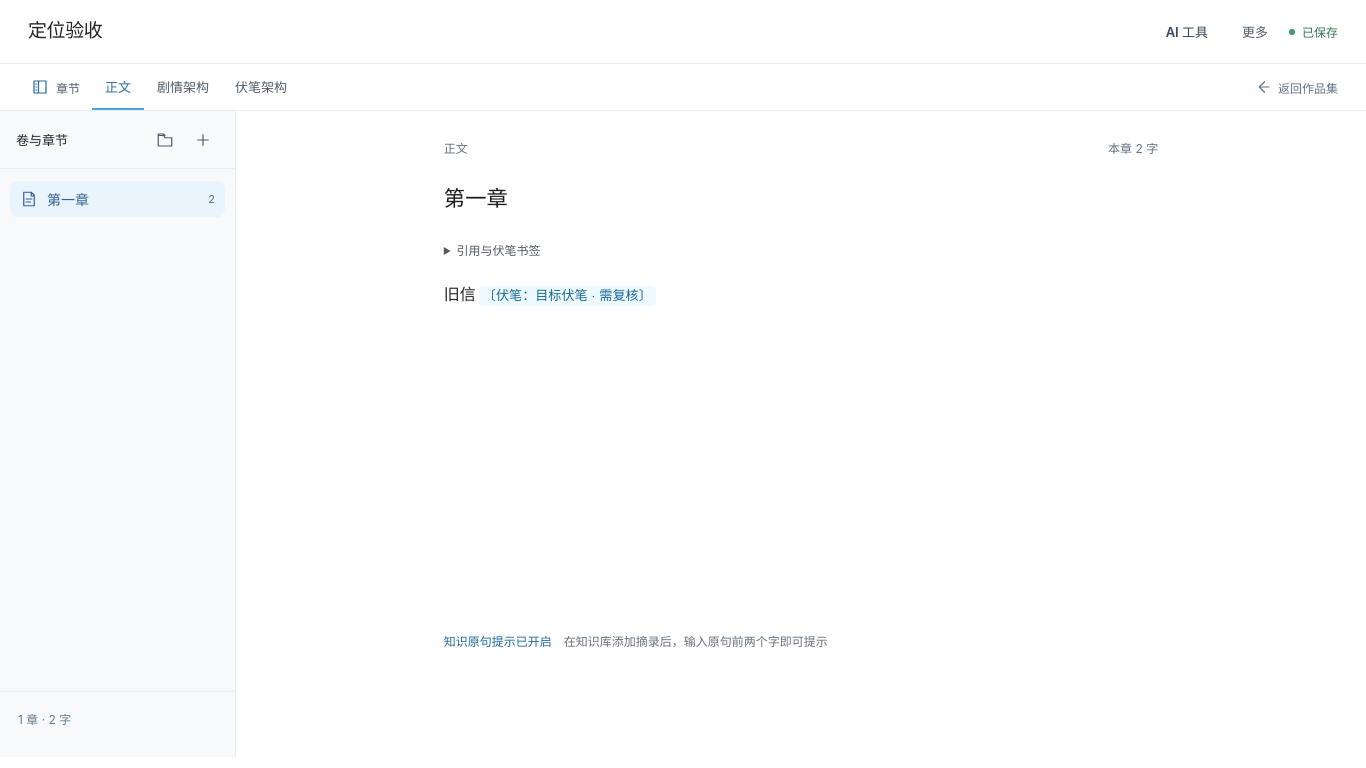
正文书签经过保存门禁定位具体伏笔，伏笔可再定位所属剧情
Click the button with aria-label "伏笔书签：目标伏笔 · 证据需复核" at x=567, y=296, box [479, 286, 656, 306]
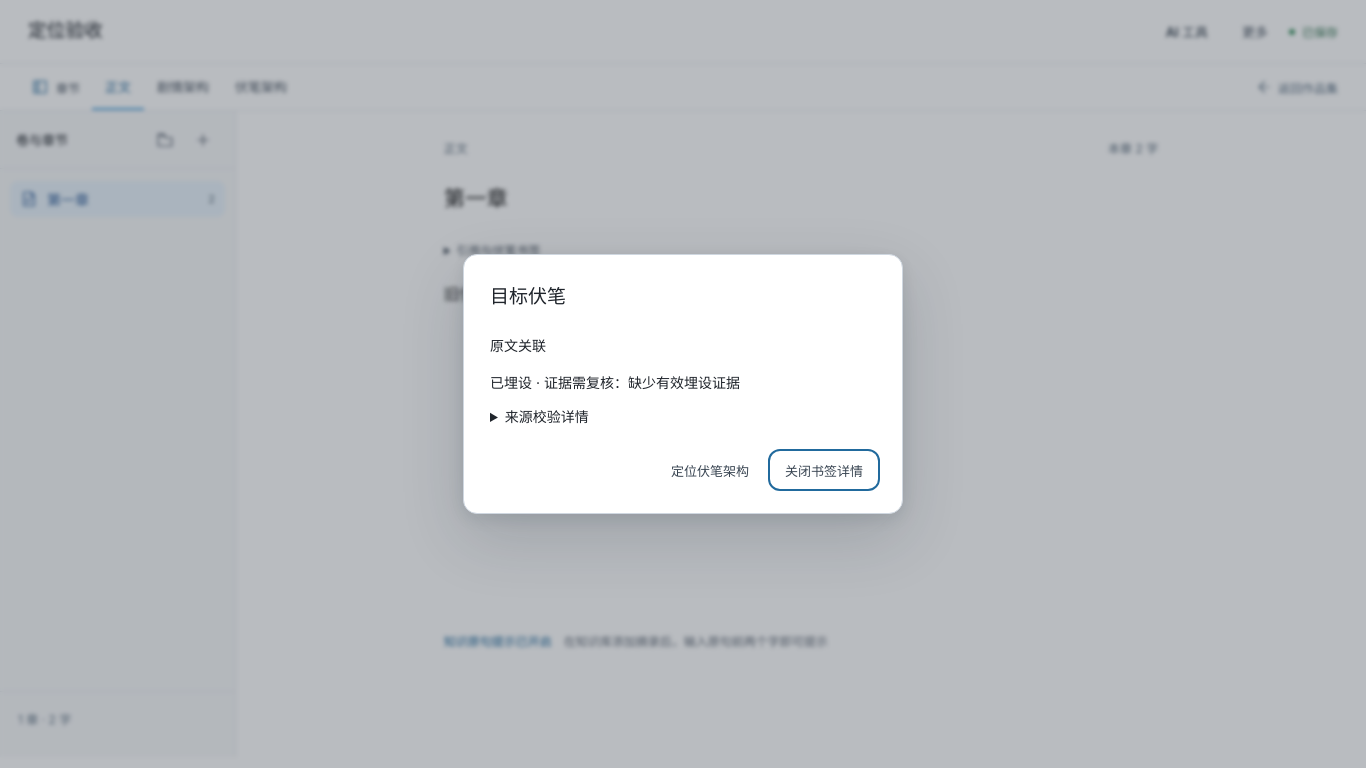
Click the button "定位伏笔架构" at x=710, y=470, box [658, 453, 762, 487]
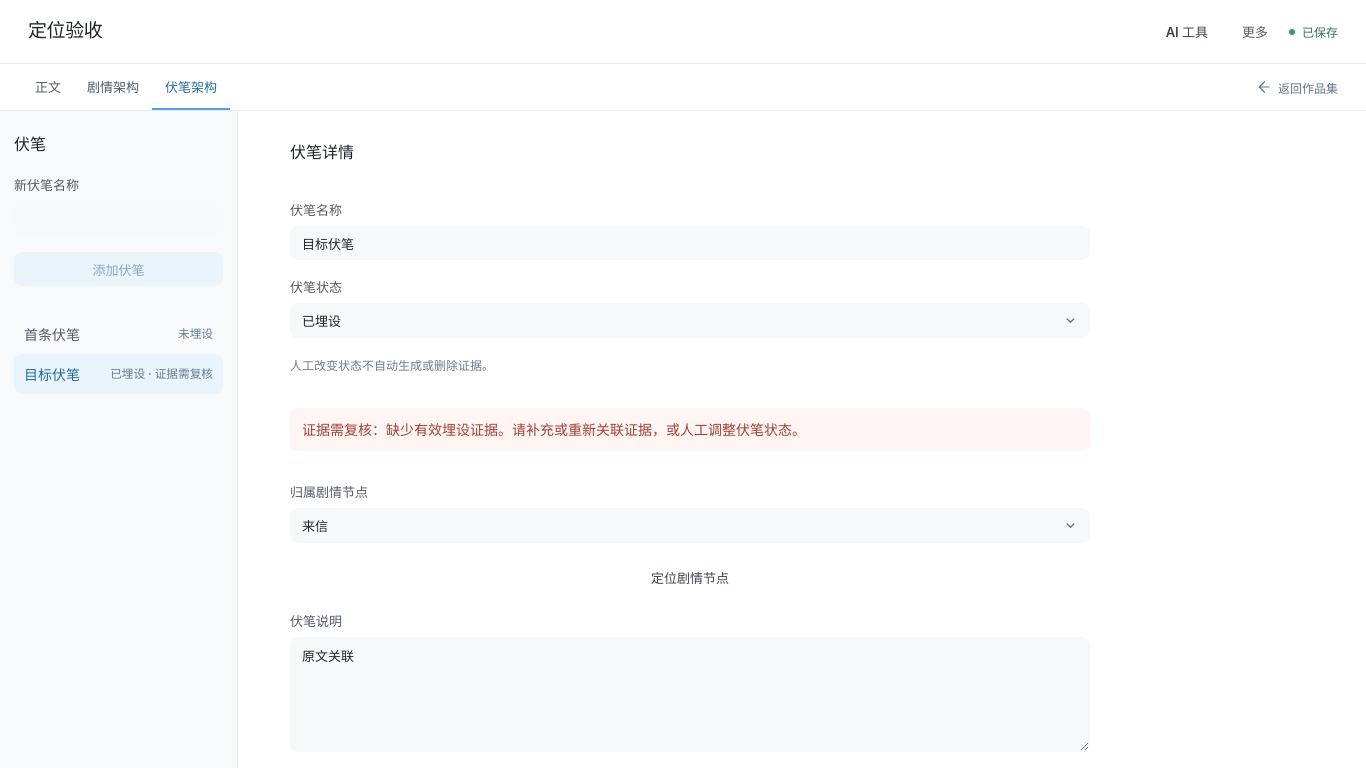
Check: the field labelled "伏笔名称" holds "目标伏笔", box [290, 226, 1090, 260]
Click the button "定位剧情节点" at x=690, y=577, box [290, 560, 1090, 594]
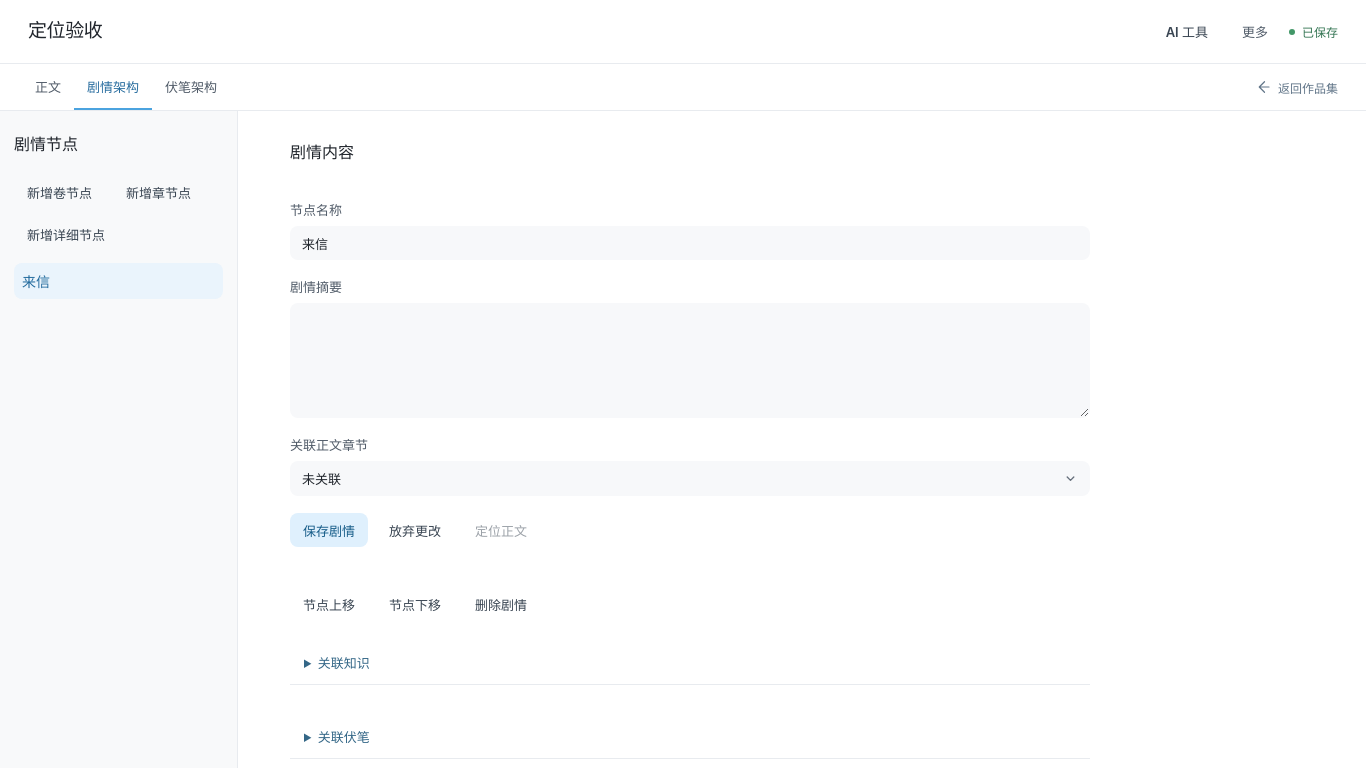
Check: the field labelled "节点名称" holds "来信", box [290, 226, 1090, 260]
